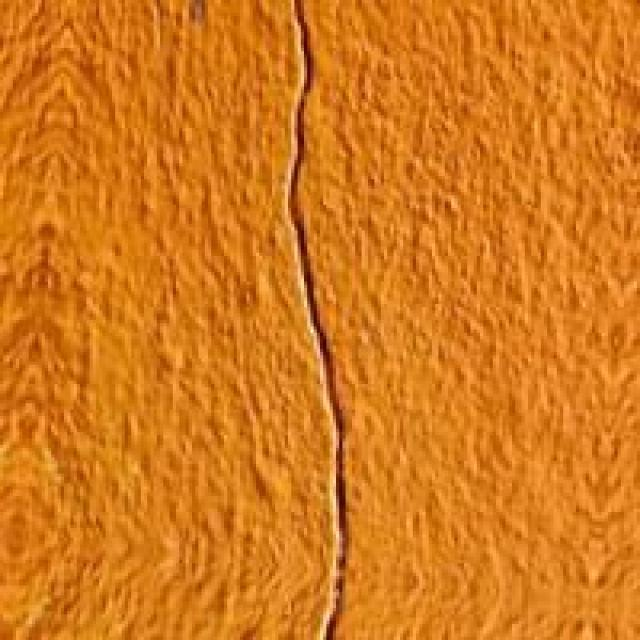crack: (243, 0, 422, 637)
